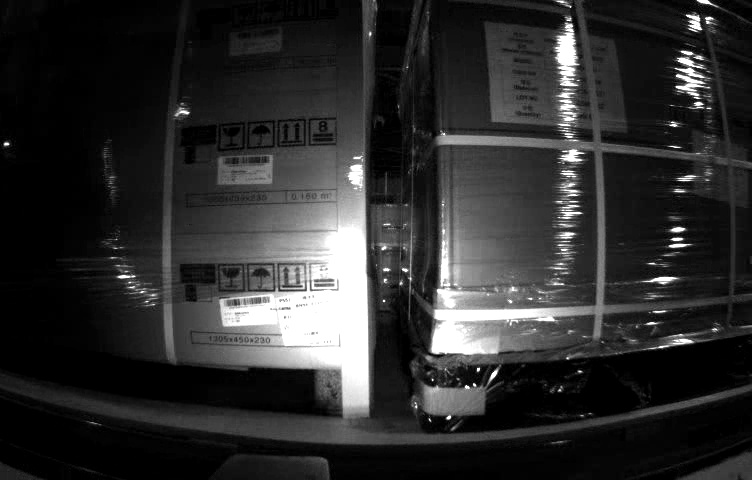True Barcode: (276, 295, 343, 348)
